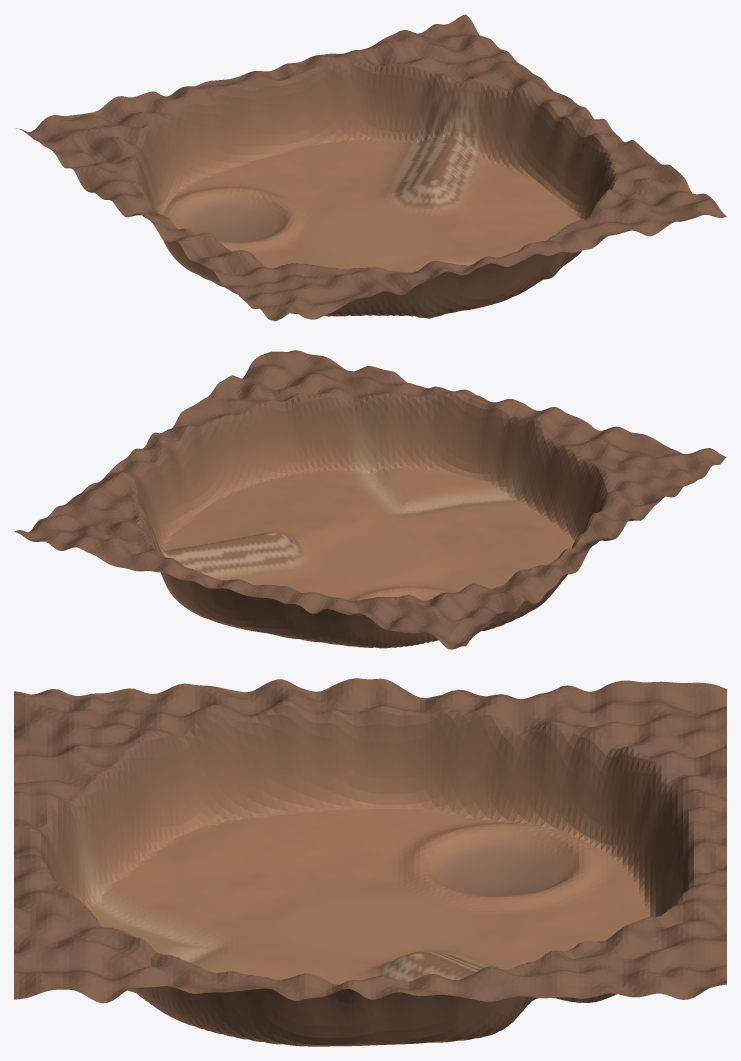
Rendered from terrain.glb.
The picture shows the model from 3 angles, top to bottom: view 1: azimuth 30°, elevation 25°; view 2: azimuth 150°, elevation 25°; view 3: azimuth 270°, elevation 25°; orthographic projection. The views are drawn at different scales.
Parts seen in each view (by area): view 1: terrain_chunk_ne, terrain_chunk_nw, terrain_chunk_se, terrain_chunk_sw; view 2: terrain_chunk_se, terrain_chunk_sw, terrain_chunk_ne, terrain_chunk_nw; view 3: terrain_chunk_sw, terrain_chunk_nw, terrain_chunk_se, terrain_chunk_ne.
Boxes of the visible parts, left/top/right/bottom form: terrain_chunk_ne: left=240, top=14, right=593, bottom=232; terrain_chunk_nw: left=16, top=76, right=369, bottom=272; terrain_chunk_se: left=371, top=118, right=726, bottom=308; terrain_chunk_sw: left=146, top=218, right=500, bottom=321; terrain_chunk_se: left=144, top=350, right=495, bottom=558; terrain_chunk_sw: left=371, top=399, right=726, bottom=597; terrain_chunk_ne: left=14, top=445, right=369, bottom=632; terrain_chunk_nw: left=240, top=545, right=593, bottom=649; terrain_chunk_sw: left=14, top=678, right=370, bottom=931; terrain_chunk_nw: left=370, top=678, right=726, bottom=926; terrain_chunk_se: left=14, top=837, right=370, bottom=1046; terrain_chunk_ne: left=370, top=840, right=726, bottom=1045.
Size of the model in its own units: 260 by 44.09 by 260.
